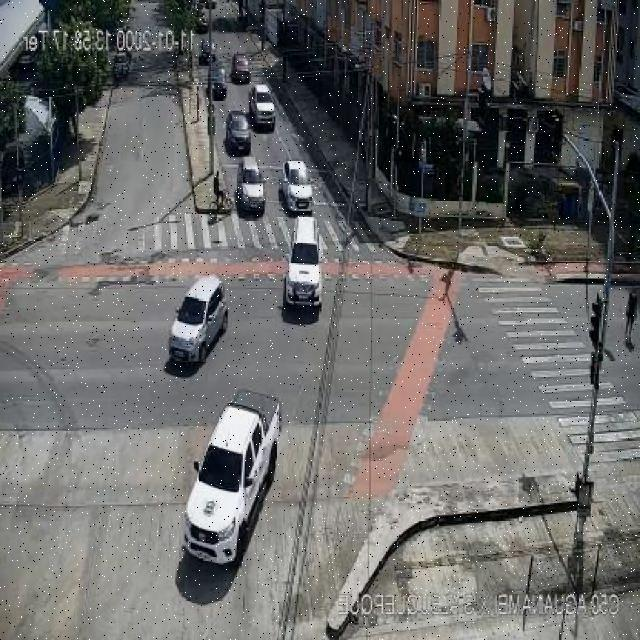Car: (181, 384, 279, 576), (161, 274, 230, 373), (282, 215, 320, 315), (234, 157, 270, 218), (280, 160, 314, 210), (224, 110, 255, 156), (248, 84, 278, 130), (205, 66, 230, 105), (232, 51, 252, 84)
Cycle: (208, 170, 235, 226)
